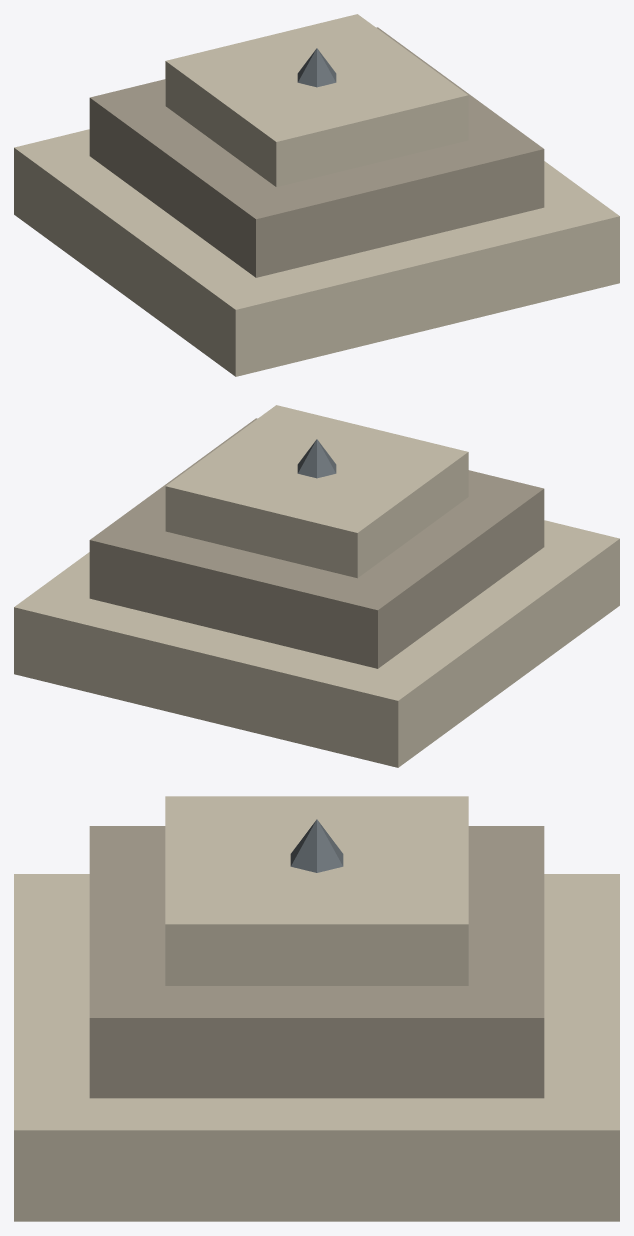
The model's file is tw_landmark_stepped_lod1.glb.
The picture shows the model from 3 angles, top to bottom: view 1: azimuth 30°, elevation 25°; view 2: azimuth 150°, elevation 25°; view 3: azimuth 270°, elevation 25°; orthographic projection. The views are drawn at different scales.
Parts seen in each view (by area): view 1: tw_landmark_stepped_lod1; view 2: tw_landmark_stepped_lod1; view 3: tw_landmark_stepped_lod1.
Part boxes in pixels (left/top/right/bottom): tw_landmark_stepped_lod1: left=14, top=14, right=619, bottom=376; tw_landmark_stepped_lod1: left=14, top=405, right=619, bottom=767; tw_landmark_stepped_lod1: left=14, top=796, right=619, bottom=1221.
Bounding box in the file's own units: 24 × 12 × 24.
2 materials, 2 textured.
